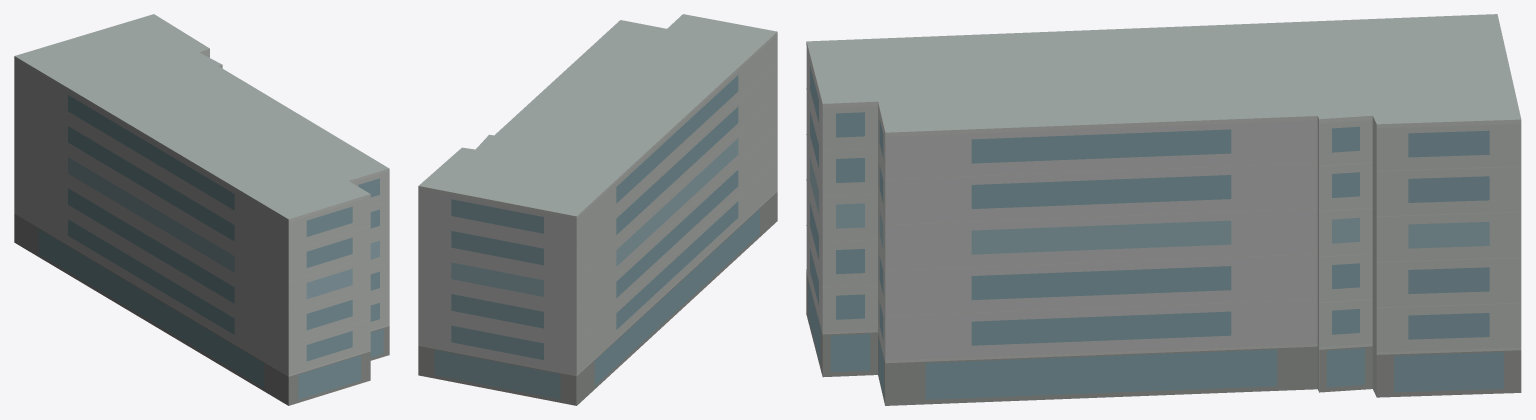
Rendered from survey-upis-33026215.glb.
3 renders of one model, left to right at view 1: azimuth 30°, elevation 25°; view 2: azimuth 150°, elevation 25°; view 3: azimuth 270°, elevation 25°, orthographic. The views are drawn at different scales.
Visible parts, largest first — view 1: survey-upis-33026215.tmp; view 2: survey-upis-33026215.tmp; view 3: survey-upis-33026215.tmp.
Boxes of the visible parts, x1,y1,x2,y2 form: survey-upis-33026215.tmp: (14, 14, 389, 405); survey-upis-33026215.tmp: (418, 14, 777, 405); survey-upis-33026215.tmp: (806, 14, 1521, 405).
Bounding box in the file's own units: 14.46 × 15.5 × 36.78.
